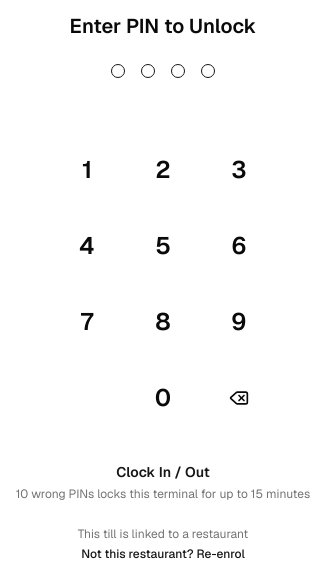
Test: PinPad › reuses a previously saved binding with no query string, and clears it on Re-enrol
Check: the text with test id "pos-terminal-binding" reads "This till is linked to a restaurant", box [78,526,248,542]
Click the button with test id "pos-rebind" at (163, 554), box [81,546,245,562]
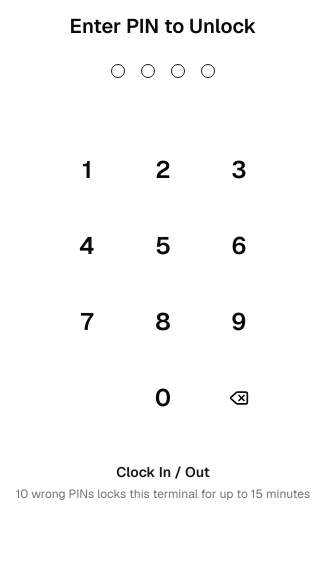
Check: the text with test id "pos-terminal-binding" is gone
